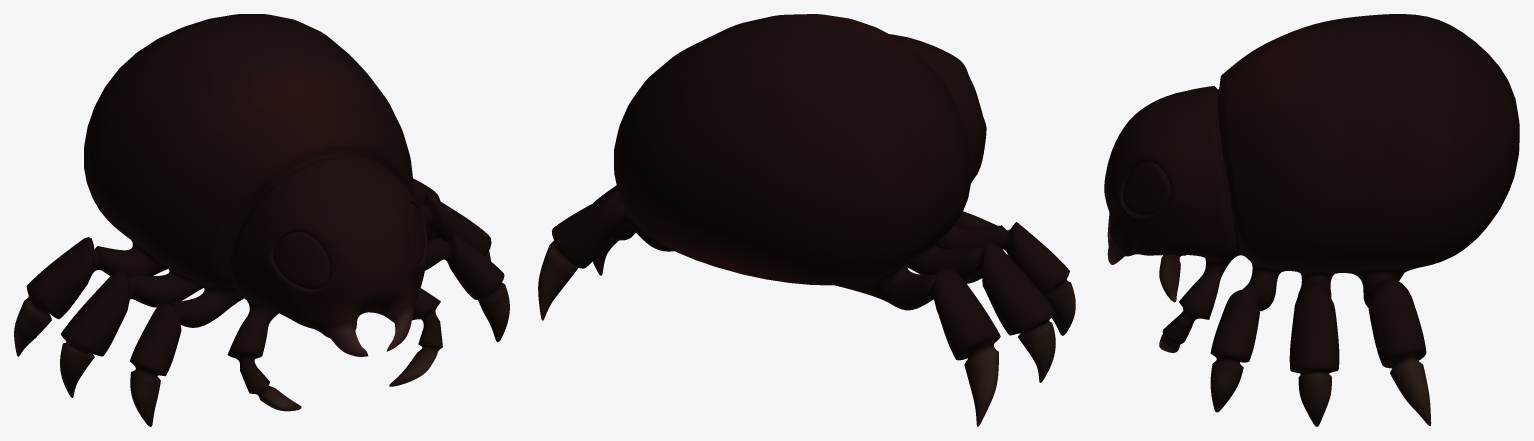
File: tick_smol_hp.fbx
The picture shows the model from 3 angles, left to right: view 1: azimuth 30°, elevation 25°; view 2: azimuth 150°, elevation 25°; view 3: azimuth 270°, elevation 25°; orthographic projection. The views are drawn at different scales.
Parts seen in each view (by area): view 1: tick_smol; view 2: tick_smol; view 3: tick_smol.
Part boxes in pixels (x1,y1,x2,y2): tick_smol: [14, 14, 509, 426]; tick_smol: [538, 14, 1075, 426]; tick_smol: [1104, 14, 1519, 426].
Bounding box in the file's own units: 47.95 × 31.47 × 40.02.
